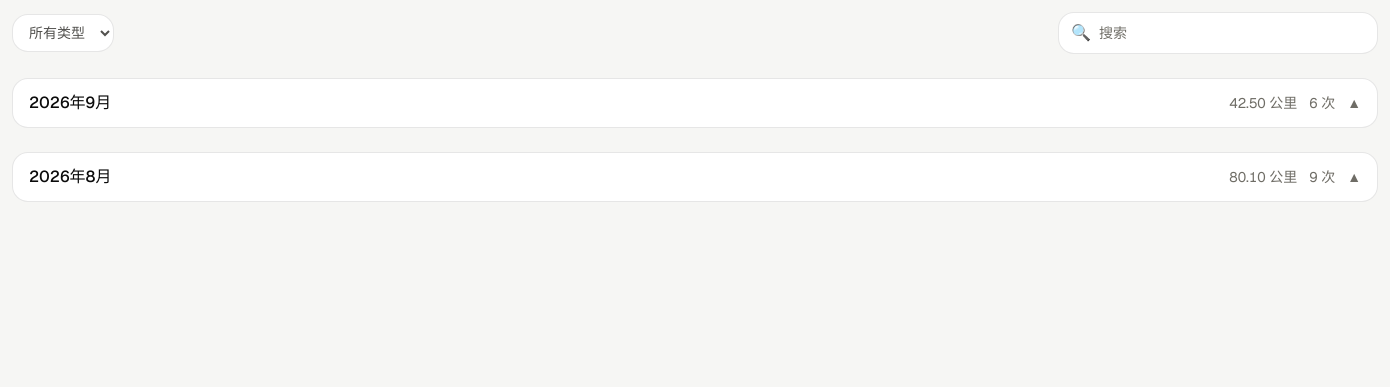
Test: ListClient 活动列表 (交互/筛选/无限滚动) › 当月数据加载失败 → 错误横幅
This screenshot has width=1390, height=387.
Click the button "2026年9月 42.50 公里 6 次 ▲".
click(70, 102)  # box [12,78,1378,128]
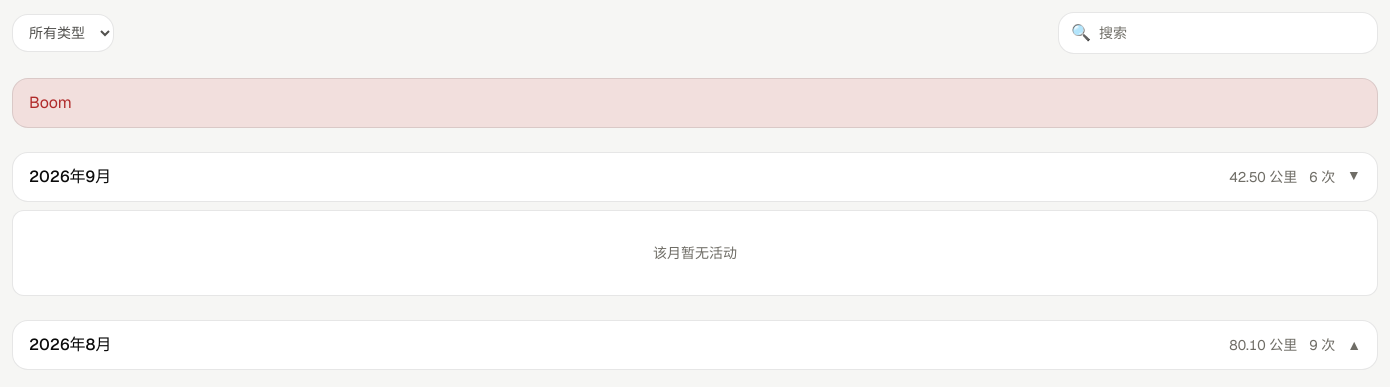
Check: the text "Boom" is shown, box [12,78,1378,128]
